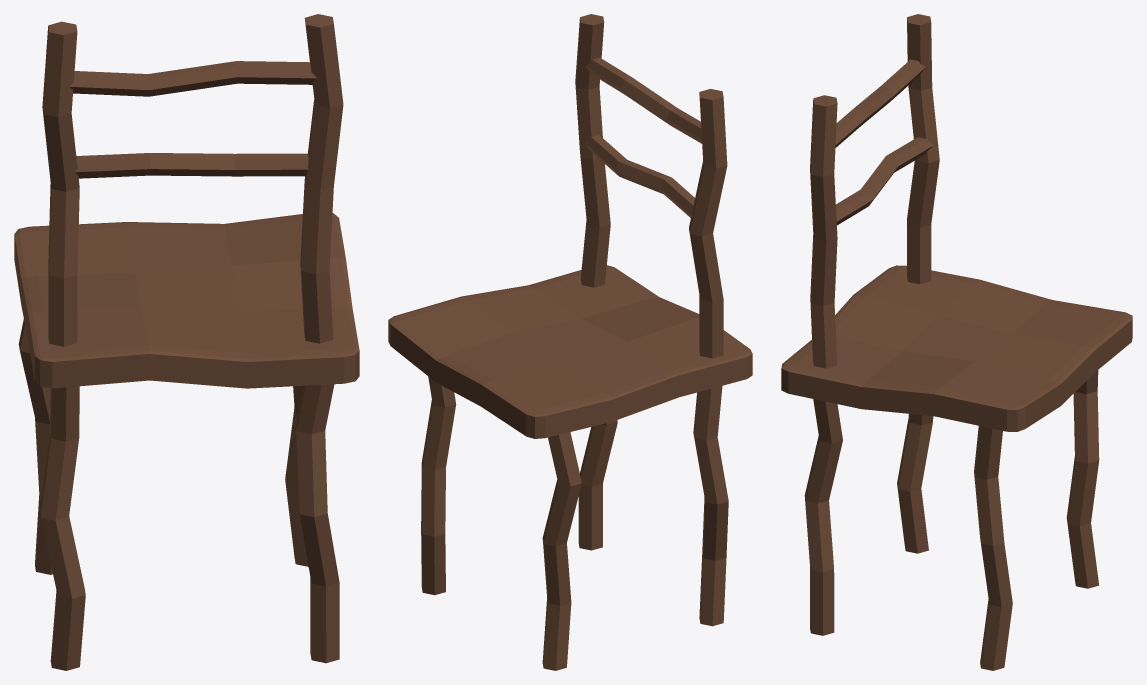
The model's file is chair_1.fbx.
3 views of the same model, side by side, from view 1: azimuth 30°, elevation 25°; view 2: azimuth 150°, elevation 25°; view 3: azimuth 270°, elevation 25° (orthographic). The views are drawn at different scales.
Visible parts, largest first — view 1: Chair, Thingy, Thingy.004, Leg.003, Leg.005, Thingy.003, Thingy.002, Leg.002, Leg.001; view 2: Chair, Thingy.004, Thingy, Leg.002, Leg.003, Leg.001, Leg.005, Thingy.003, Thingy.002; view 3: Chair, Thingy, Thingy.004, Leg.001, Leg.005, Leg.002, Leg.003, Thingy.002, Thingy.003.
Part boxes in pixels (x1,y1,x2,y2): Chair: (14, 213, 359, 388); Thingy: (300, 14, 343, 343); Thingy.004: (42, 21, 79, 346); Leg.003: (40, 386, 85, 670); Leg.005: (296, 384, 339, 663); Thingy.003: (69, 61, 317, 96); Thingy.002: (74, 153, 309, 178); Leg.002: (18, 319, 52, 574); Leg.001: (285, 385, 308, 566); Chair: (388, 265, 752, 438); Thingy.004: (689, 89, 727, 358); Thingy: (575, 14, 610, 287); Leg.002: (542, 432, 581, 670); Leg.003: (693, 385, 728, 626); Leg.001: (421, 376, 456, 595); Leg.005: (578, 420, 617, 550); Thingy.003: (585, 57, 702, 143); Thingy.002: (585, 135, 694, 217); Chair: (781, 265, 1132, 431); Thingy: (810, 95, 837, 368); Thingy.004: (907, 14, 939, 284); Leg.001: (974, 426, 1012, 670); Leg.005: (804, 399, 842, 635); Leg.002: (1066, 370, 1099, 588); Leg.003: (897, 414, 933, 553); Thingy.002: (836, 137, 933, 225); Thingy.003: (835, 59, 925, 147).
Bounding box in the file's own units: 130 × 215 × 130.
